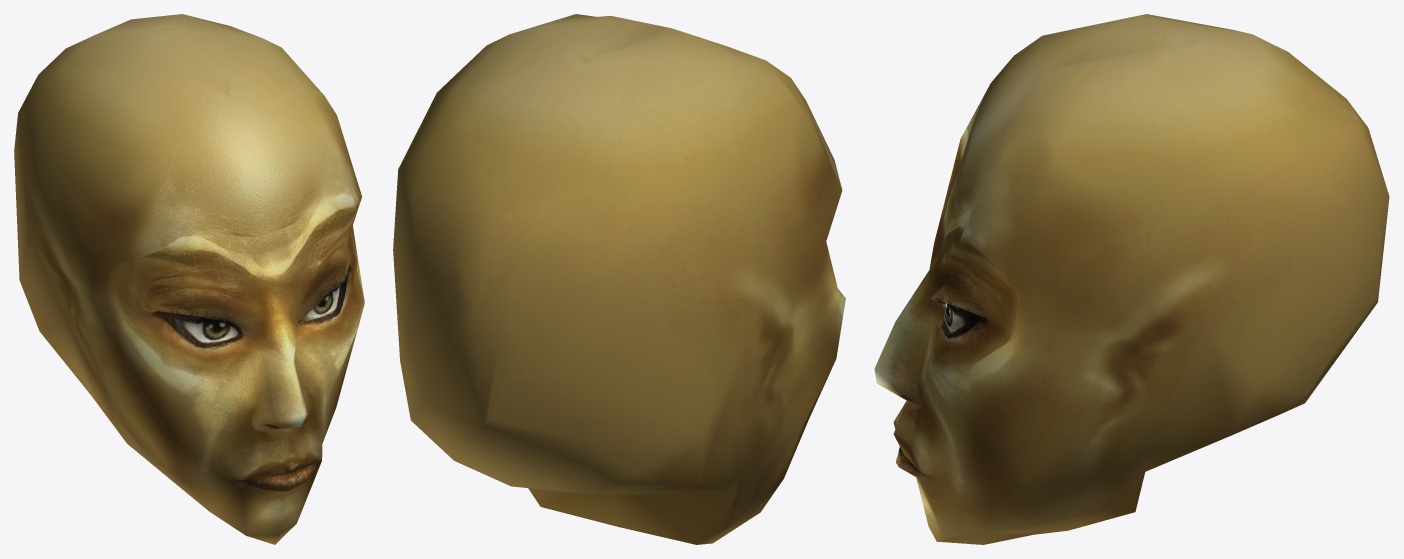
File: b_n_high elf_f_head_01.glb
3 renders of one model, left to right at view 1: azimuth 30°, elevation 25°; view 2: azimuth 150°, elevation 25°; view 3: azimuth 270°, elevation 25°, orthographic. The views are drawn at different scales.
Parts seen in each view (by area): view 1: Tri B_N_High Elf_F_Head_01; view 2: Tri B_N_High Elf_F_Head_01; view 3: Tri B_N_High Elf_F_Head_01.
Part boxes in pixels (bbox=[...]): Tri B_N_High Elf_F_Head_01: bbox=[14, 14, 364, 544]; Tri B_N_High Elf_F_Head_01: bbox=[393, 14, 845, 544]; Tri B_N_High Elf_F_Head_01: bbox=[874, 14, 1389, 544].
Size of the model in its own units: 0.0941 by 0.1518 by 0.1417.
Materials: 1 (1 with a texture image).
